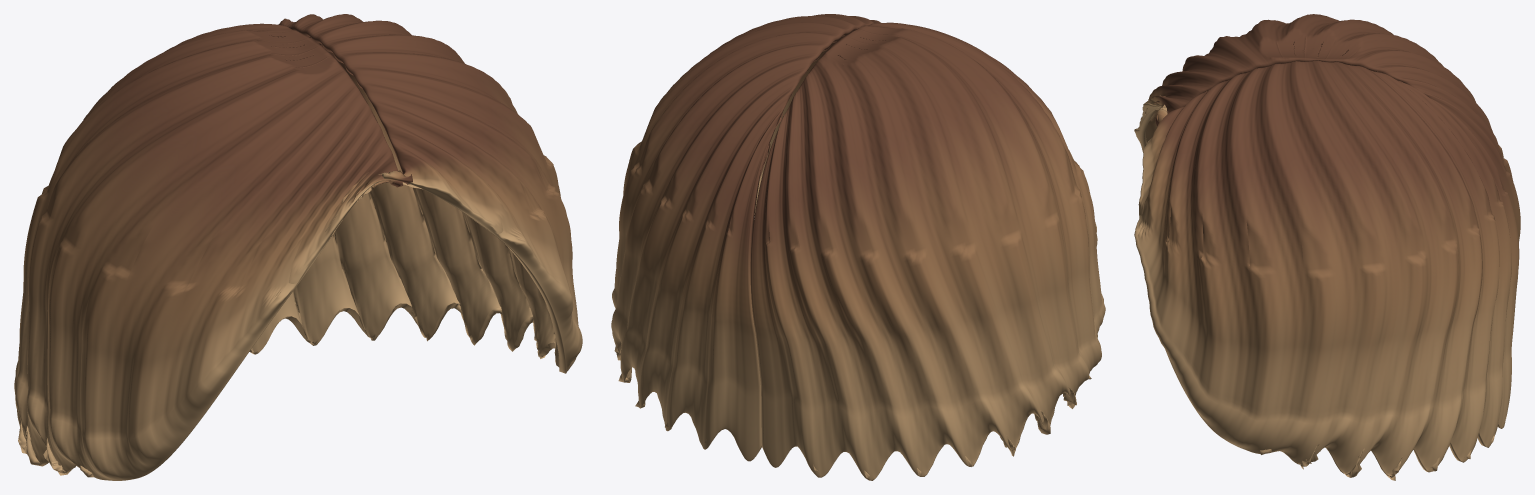
File: Ombre-872aca8d5068253-hair.glb
3 renders of one model, left to right at view 1: azimuth 30°, elevation 25°; view 2: azimuth 150°, elevation 25°; view 3: azimuth 270°, elevation 25°, orthographic. The views are drawn at different scales.
Visible parts, largest first — view 1: 226 hair / Hair252 / flowing sculpt flow.001; view 2: 226 hair / Hair252 / flowing sculpt flow.001; view 3: 226 hair / Hair252 / flowing sculpt flow.001.
Boxes of the visible parts, left/top/right/bottom form: 226 hair / Hair252 / flowing sculpt flow.001: left=14, top=14, right=582, bottom=480; 226 hair / Hair252 / flowing sculpt flow.001: left=611, top=14, right=1105, bottom=480; 226 hair / Hair252 / flowing sculpt flow.001: left=1134, top=14, right=1520, bottom=480.
Size of the model in its own units: 1.11 by 0.8579 by 0.8431.
Materials: 1 (1 with a texture image).
